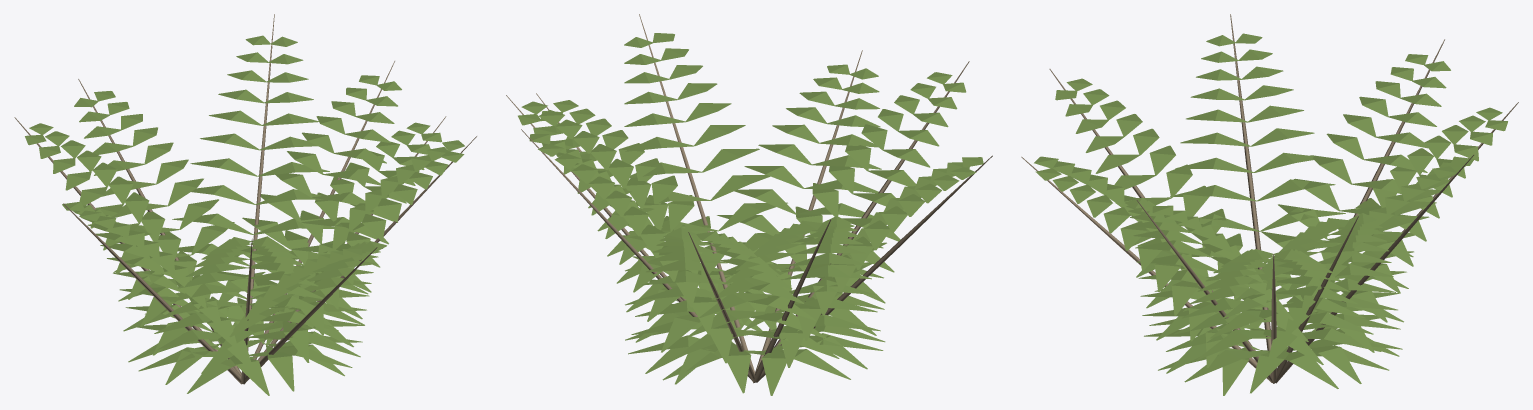
Rendered from fern_lod0.glb.
The picture shows the model from 3 angles, left to right: view 1: azimuth 30°, elevation 25°; view 2: azimuth 150°, elevation 25°; view 3: azimuth 270°, elevation 25°; orthographic projection. The views are drawn at different scales.
Parts seen in each view (by area): view 1: Leaves, Bark; view 2: Leaves, Bark; view 3: Leaves, Bark.
Part boxes in pixels (left/top/right/bottom): Leaves: left=25, top=35, right=464, bottom=395; Bark: left=14, top=14, right=476, bottom=384; Leaves: left=518, top=33, right=983, bottom=395; Bark: left=506, top=14, right=992, bottom=383; Leaves: left=1034, top=33, right=1507, bottom=395; Bark: left=1021, top=14, right=1518, bottom=383.
Bounding box in the file's own units: 1.29 × 0.8334 × 1.28.
